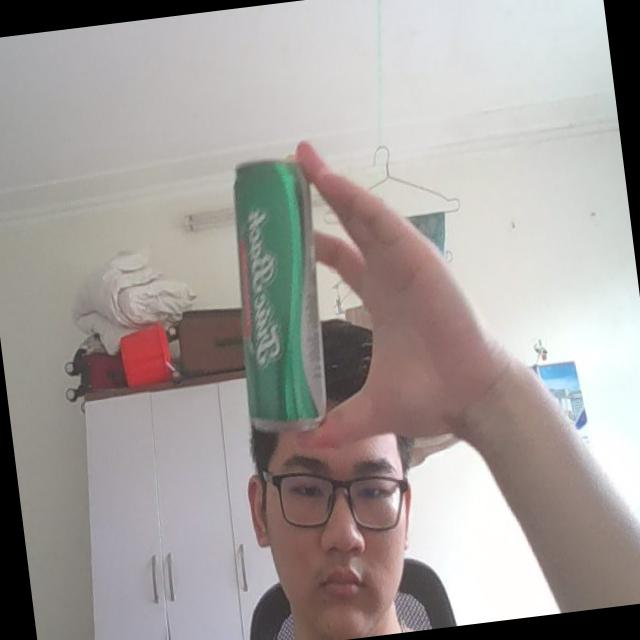Bia-Truc-Bach: (211, 152, 342, 430)
